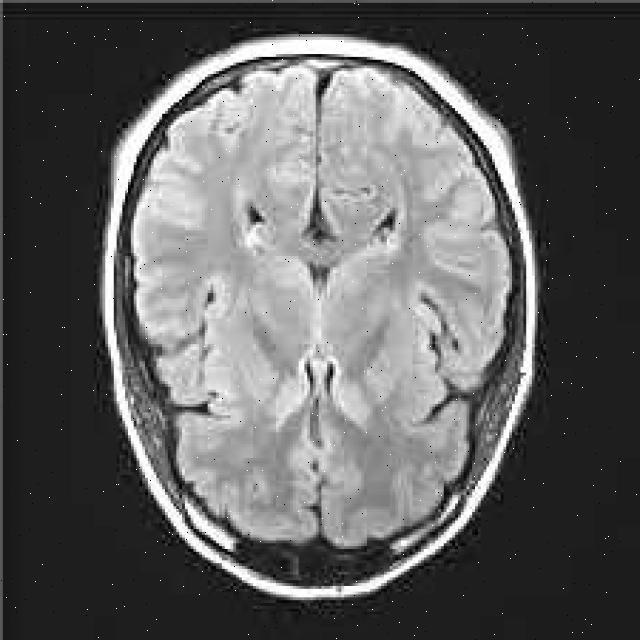No_Tumor: (101, 35, 537, 599)
